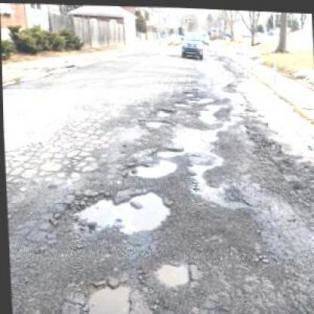Hueco: (70, 183, 173, 235), (81, 274, 136, 313), (125, 154, 178, 176), (152, 256, 190, 284), (140, 115, 168, 127), (156, 144, 182, 154), (153, 104, 172, 115), (172, 97, 189, 105)
